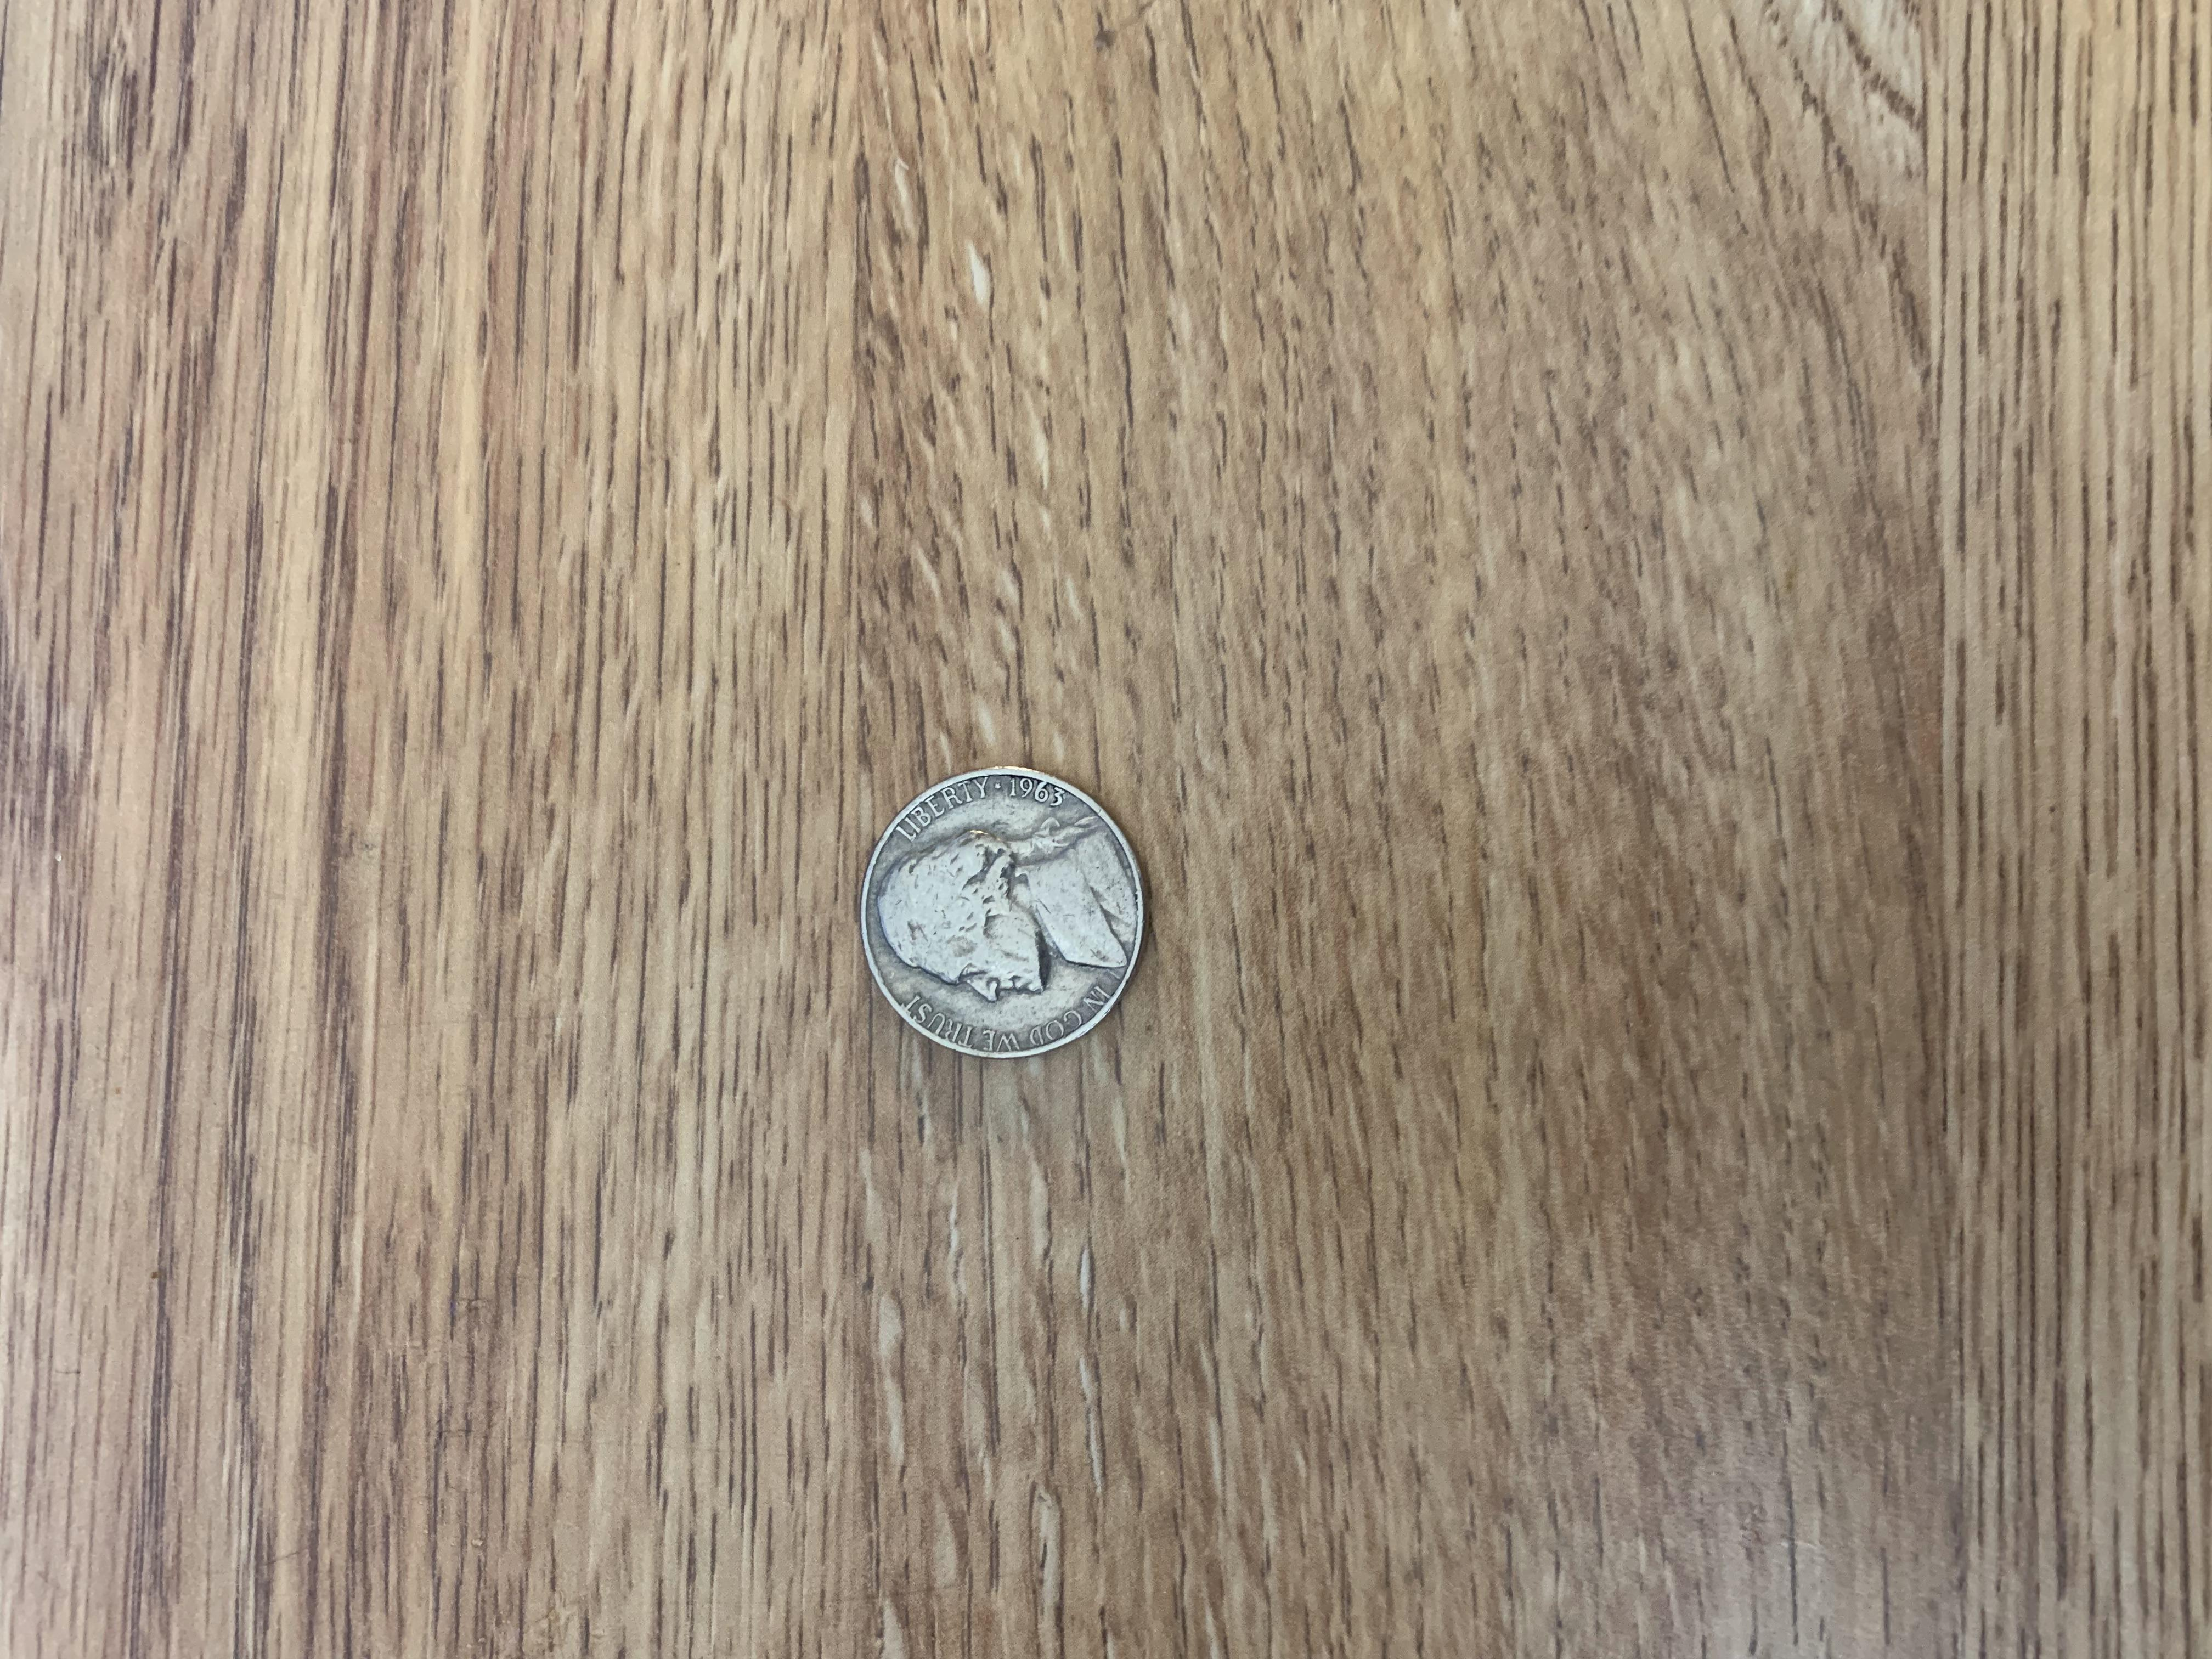Nickel: (838, 756, 1160, 1072)
